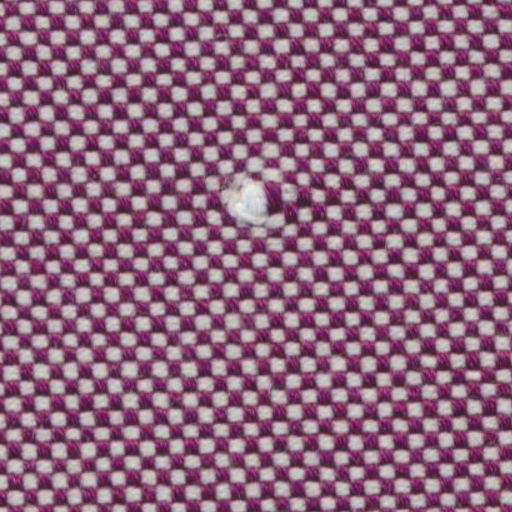MianQiu: (186, 128, 312, 263)
